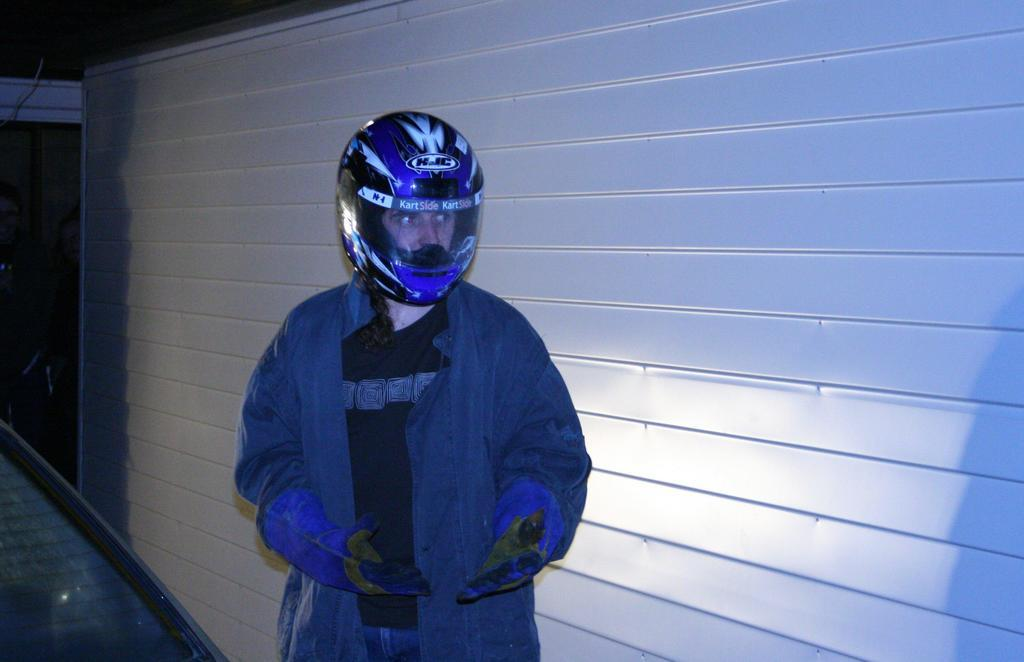helmet: (335, 110, 485, 307)
